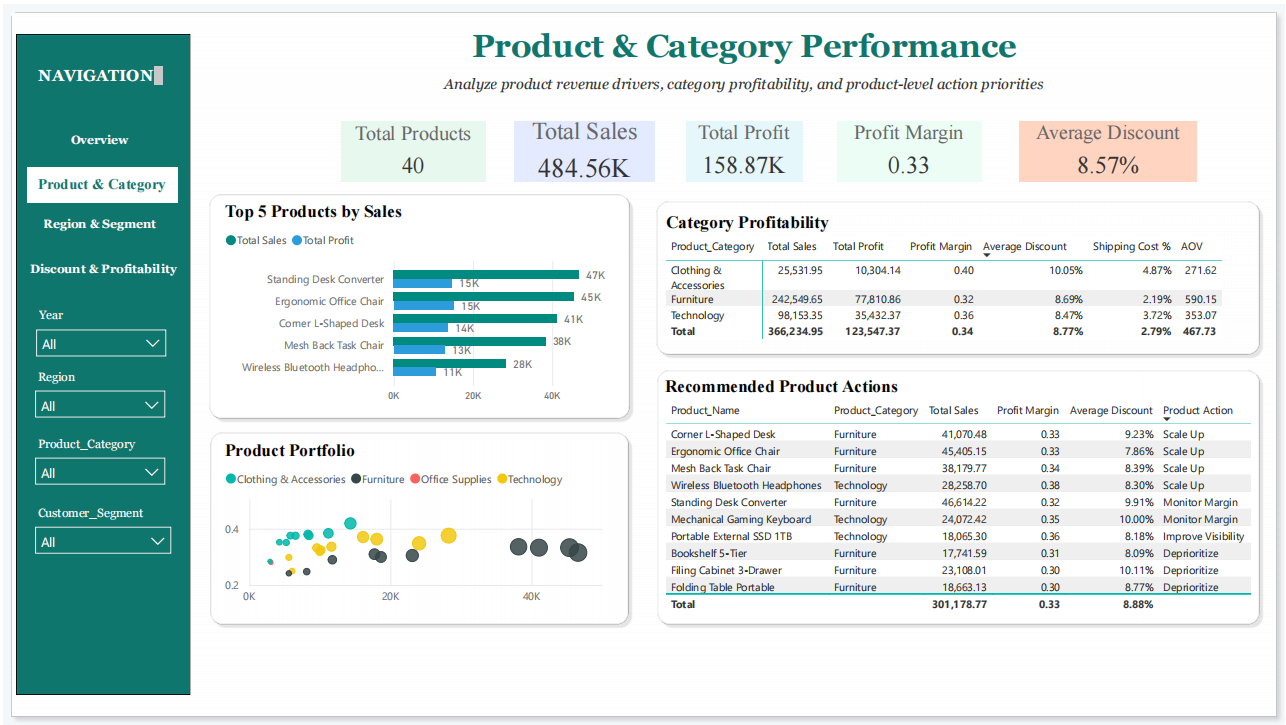

The dashboard page shown, as its layout file describes it:
{"tool":"powerbi","page":{"name":"Product & Category","canvas":[1280,720],"ordinal":1},"visuals":[{"type":"shape","box":[0,0,1280,720],"z":0},{"type":"shape","box":[13.3,30,173.3,660],"z":1000},{"type":"textbox","box":[30,56.7,134.2,28.3],"z":2000},{"type":"actionButton","box":[22.2,117.8,150,35.6],"z":3000},{"type":"actionButton","box":[24.4,163.3,150,34.4],"z":4000},{"type":"actionButton","box":[22.2,202.2,150,35.6],"z":5000},{"type":"actionButton","box":[18.3,246.7,164.2,35],"z":6000},{"type":"slicer","fields":{"Values":["Date Table.Year"]},"box":[23.3,298.9,150,57.8],"z":7000},{"type":"slicer","fields":{"Values":["Sales.Region"]},"box":[22.2,360,150,60],"z":8000},{"type":"slicer","fields":{"Values":["Sales.Product_Category"]},"box":[22.2,426.7,150,58.9],"z":9000},{"type":"slicer","fields":{"Values":["Sales.Customer_Segment"]},"box":[22.2,495.6,155.6,61.1],"z":10000},{"type":"textbox","box":[442.5,0,595,76.2],"z":11000},{"type":"textbox","box":[415,65,650,38.8],"z":12000},{"type":"cardVisual","fields":{"Data":["Date Table.Total Profit"]},"box":[676.7,111.7,126.7,70],"z":13000},{"type":"cardVisual","fields":{"Data":["Date Table.Profit Margin"]},"box":[828.3,111.7,153.3,70],"z":14000},{"type":"cardVisual","fields":{"Data":["Date Table.Average Discount %"]},"box":[1010,111.7,186.7,70],"z":15000},{"type":"cardVisual","fields":{"Data":["Date Table.Total Products"]},"box":[333.3,111.7,153.3,70],"z":16000},{"type":"group","id":"g1","title":"Group 2","box":[202.2,422.2,428.9,203.3],"z":17000},{"type":"group","id":"g2","title":"Group 1","box":[200,185,430,235],"z":18000},{"type":"shape","box":[200,185,431,234.4],"z":18000,"group":"g2"},{"type":"shape","box":[647.7,360,611.5,265.4],"z":18000,"group":"g4"},{"type":"shape","box":[202.2,422.2,427.8,203.4],"z":18000,"group":"g1"},{"type":"group","id":"g3","title":"Group 3","box":[646.7,192.2,612.2,164.4],"z":19000},{"type":"shape","box":[646.7,192.2,612.8,164],"z":19000,"group":"g3"},{"type":"group","id":"g4","title":"Group 4","box":[647.7,360,611.5,265.4],"z":20000},{"type":"tableEx","title":"Recommended Product Actions","fields":{"Values":["Sales.Product_Name","Sales.Product_Category","Date Table.Total Sales","Date Table.Profit Margin","Date Table.Average Discount","Date Table.Product Action"]},"box":[656.2,371.5,596.2,240],"z":20000,"group":"g4"},{"type":"cardVisual","fields":{"Data":["Date Table.Total Sales"]},"box":[506,112,150,70],"z":21000},{"type":"clusteredBarChart","title":"Top 5 Products by Sales","fields":{"Category":["Sales.Product_Name"],"Y":["Date Table.Total Sales","Date Table.Total Profit"]},"box":[216.6,197.9,414.1,207.5],"z":21000,"group":"g2"},{"type":"pivotTable","title":"Category Profitability","fields":{"Rows":["Sales.Product_Category"],"Values":["Date Table.Total Sales","Date Table.Total Profit","Date Table.Profit Margin","Date Table.Average Discount","Date Table.Shipping Cost %","Date Table.AOV"]},"box":[657,209.3,592.2,133.8],"z":21000,"group":"g3"},{"type":"scatterChart","title":"Product Portfolio","fields":{"X":["Date Table.Total Sales"],"Series":["Sales.Product_Category"],"Category":["Sales.Product_Name"],"Y":["Date Table.Profit Margin"],"Size":["Date Table.Total Profit"]},"box":[217.1,436,395.4,172.5],"z":21000,"group":"g1"}]}

Visuals, with their boxes in screenshot pixels (x1, y1, x2, y2), scaled from the page's 1280x720 canvas onto the 1286x725 screenshot:
shape: bbox=(0, 0, 1285, 724)
shape: bbox=(13, 30, 187, 695)
textbox: bbox=(30, 57, 165, 86)
actionButton: bbox=(22, 119, 173, 154)
actionButton: bbox=(25, 164, 175, 199)
actionButton: bbox=(22, 204, 173, 239)
actionButton: bbox=(18, 248, 183, 284)
slicer - Date Table.Year: bbox=(23, 301, 174, 359)
slicer - Sales.Region: bbox=(22, 362, 173, 423)
slicer - Sales.Product_Category: bbox=(22, 430, 173, 489)
slicer - Sales.Customer_Segment: bbox=(22, 499, 179, 561)
textbox: bbox=(445, 0, 1042, 77)
textbox: bbox=(417, 65, 1070, 105)
cardVisual - Date Table.Total Profit: bbox=(680, 112, 807, 183)
cardVisual - Date Table.Profit Margin: bbox=(832, 112, 986, 183)
cardVisual - Date Table.Average Discount %: bbox=(1015, 112, 1202, 183)
cardVisual - Date Table.Total Products: bbox=(335, 112, 489, 183)
"Group 2" group: bbox=(203, 425, 634, 630)
"Group 1" group: bbox=(201, 186, 633, 423)
shape: bbox=(201, 186, 634, 422)
shape: bbox=(651, 362, 1265, 630)
shape: bbox=(203, 425, 633, 630)
"Group 3" group: bbox=(650, 194, 1265, 359)
shape: bbox=(650, 194, 1265, 359)
"Group 4" group: bbox=(651, 362, 1265, 630)
"Recommended Product Actions" tableEx: bbox=(659, 374, 1258, 616)
cardVisual - Date Table.Total Sales: bbox=(508, 113, 659, 183)
"Top 5 Products by Sales" clusteredBarChart: bbox=(218, 199, 634, 408)
"Category Profitability" pivotTable: bbox=(660, 211, 1255, 345)
"Product Portfolio" scatterChart: bbox=(218, 439, 615, 613)
